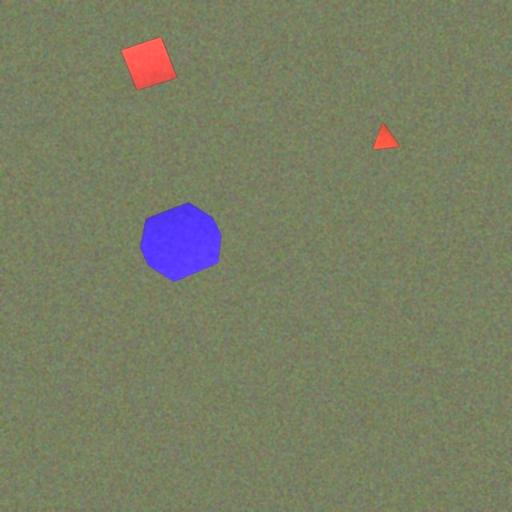RED_SQUARE: (120, 36, 178, 91)
